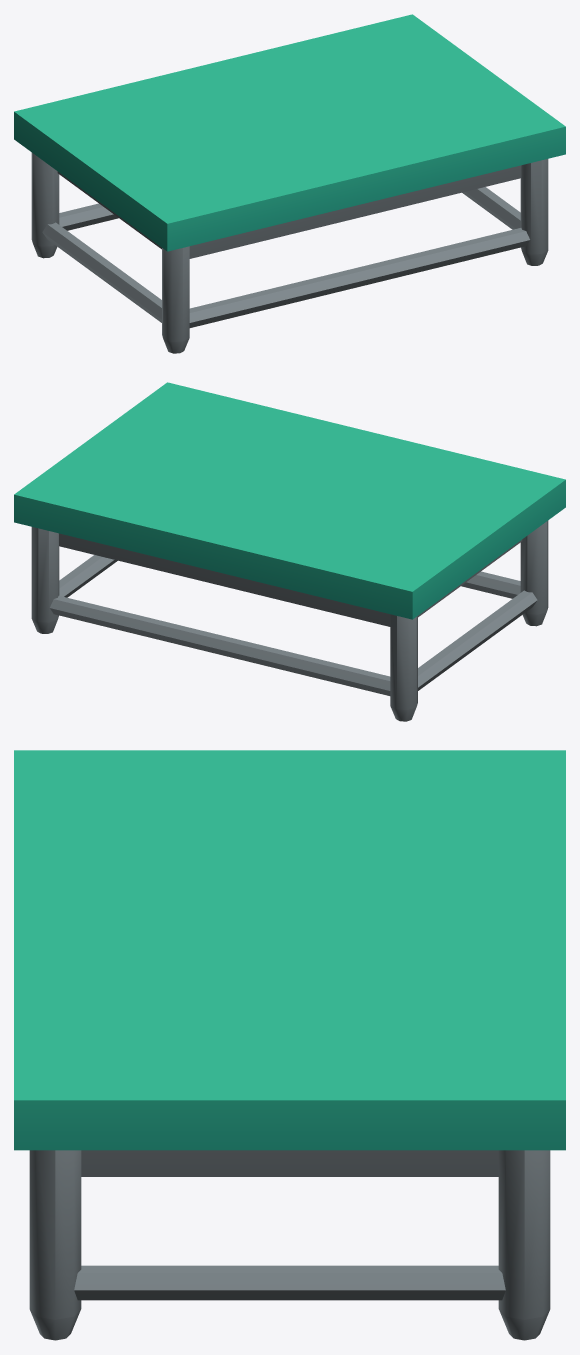
The model's file is kitchentable_B_large.obj.
The picture shows the model from 3 angles, top to bottom: view 1: azimuth 30°, elevation 25°; view 2: azimuth 150°, elevation 25°; view 3: azimuth 270°, elevation 25°; orthographic projection. The views are drawn at different scales.
Visible parts, largest first — view 1: kitchentable_B_large_Cube.184; view 2: kitchentable_B_large_Cube.184; view 3: kitchentable_B_large_Cube.184.
Part boxes in pixels (bbox=[...]): kitchentable_B_large_Cube.184: bbox=[14, 14, 565, 353]; kitchentable_B_large_Cube.184: bbox=[14, 382, 565, 721]; kitchentable_B_large_Cube.184: bbox=[14, 750, 565, 1340].
Bounding box in the file's own units: 3 × 1 × 2.
1 material, 1 textured.
